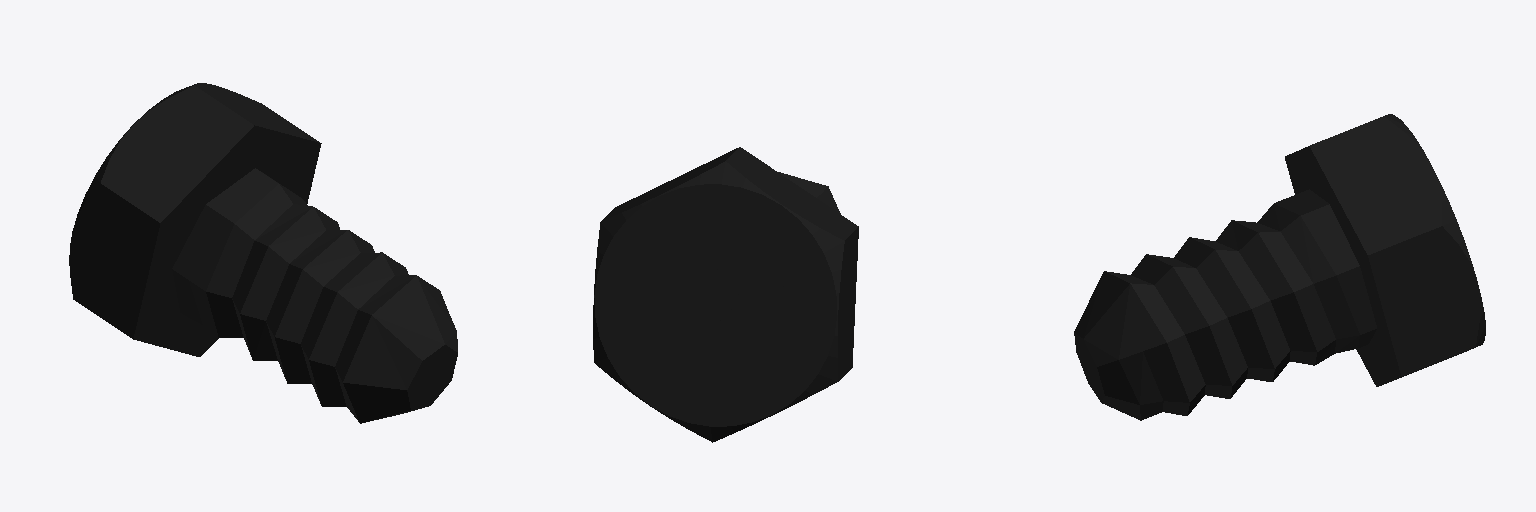
Rendered from bolt1.obj.
3 views of the same model, side by side, from view 1: azimuth 30°, elevation 25°; view 2: azimuth 150°, elevation 25°; view 3: azimuth 270°, elevation 25° (orthographic).
Parts seen in each view (by area): view 1: Bolt.002; view 2: Bolt.002; view 3: Bolt.002.
Boxes of the visible parts, <box> form: Bolt.002: <box>69,83,457,423</box>; Bolt.002: <box>593,147,858,442</box>; Bolt.002: <box>1074,114,1485,420</box>.
Size of the model in its own units: 0.4432 by 0.4476 by 0.6183.